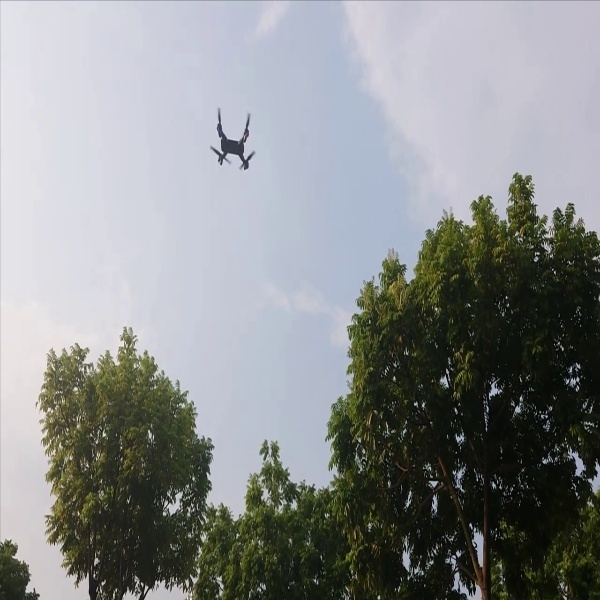drone: (204, 104, 263, 171)
